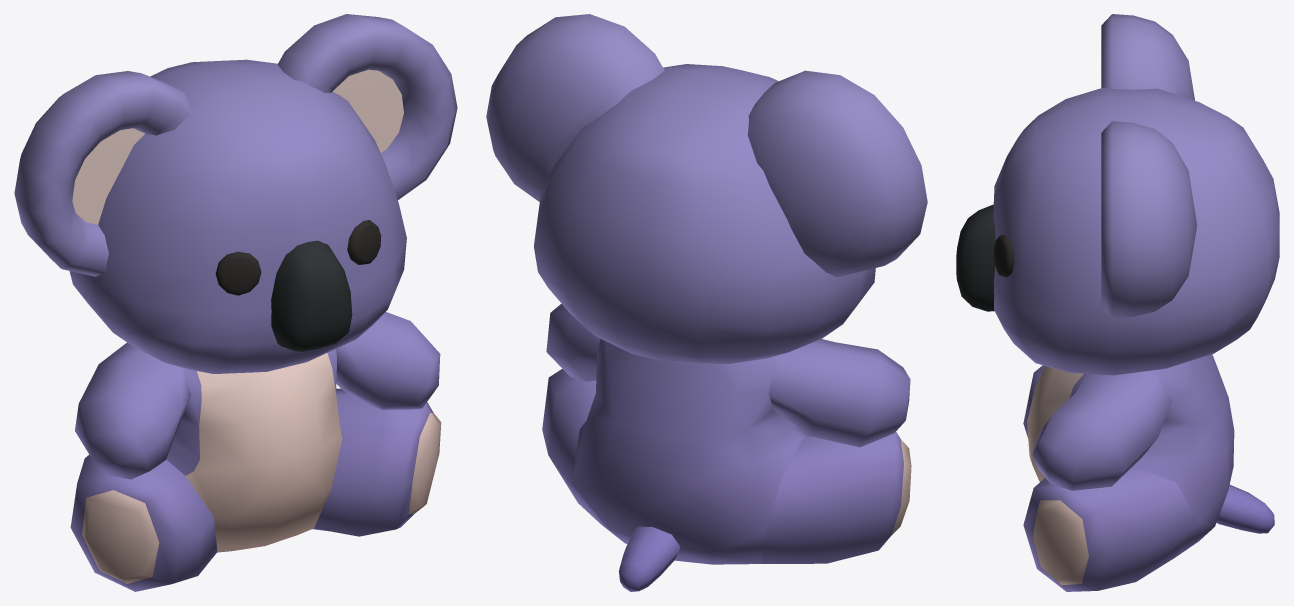
Rendered from Koala_01.fbx.
The picture shows the model from 3 angles, left to right: view 1: azimuth 30°, elevation 25°; view 2: azimuth 150°, elevation 25°; view 3: azimuth 270°, elevation 25°; orthographic projection. The views are drawn at different scales.
Parts seen in each view (by area): view 1: Koala_01; view 2: Koala_01; view 3: Koala_01.
Boxes of the visible parts, left/top/right/bottom form: Koala_01: left=14, top=14, right=457, bottom=591; Koala_01: left=486, top=14, right=927, bottom=591; Koala_01: left=956, top=14, right=1279, bottom=591.
Bounding box in the file's own units: 39.78 × 27.96 × 44.2.
